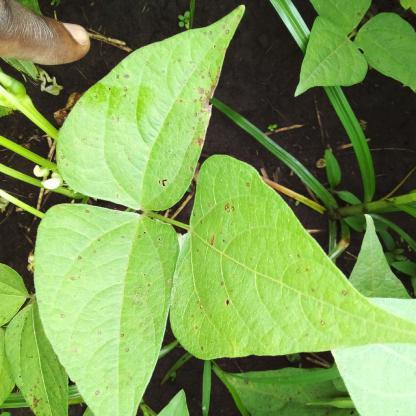Beans_Rust: (168, 158, 378, 364), (46, 10, 241, 204), (33, 204, 172, 404)
